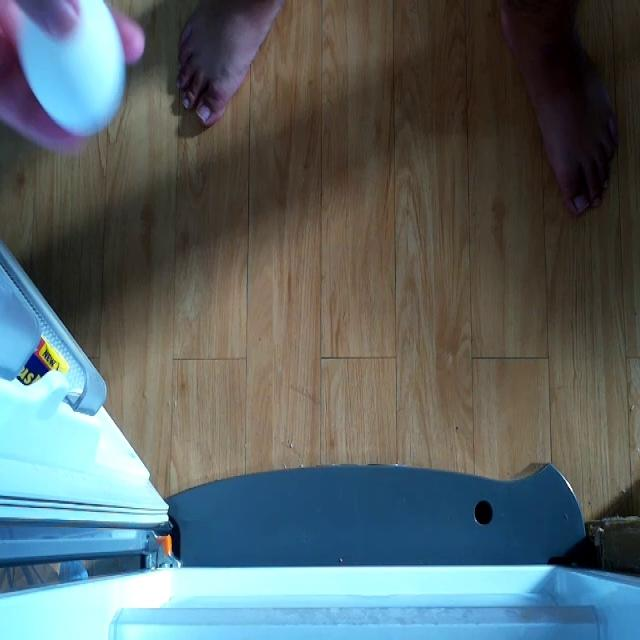egg: (15, 3, 125, 143)
